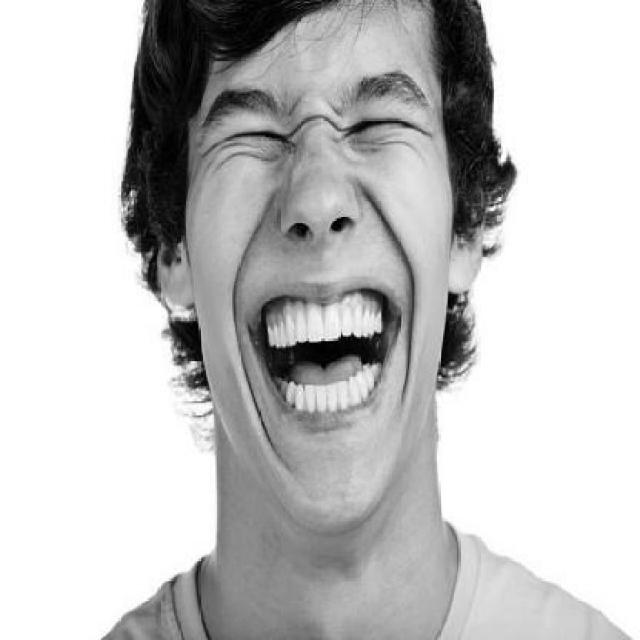happy: (204, 63, 431, 431)
